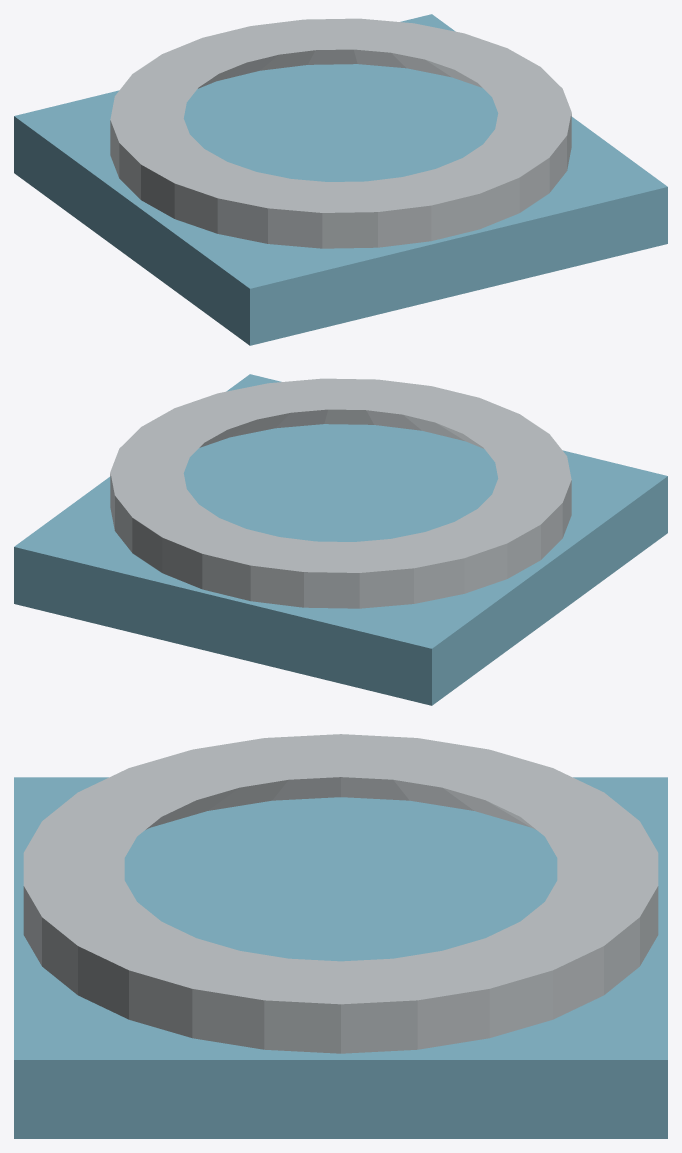
The model's file is 39_L77_TransparentOpticalEndpointViewport.glb.
The picture shows the model from 3 angles, top to bottom: view 1: azimuth 30°, elevation 25°; view 2: azimuth 150°, elevation 25°; view 3: azimuth 270°, elevation 25°; orthographic projection. The views are drawn at different scales.
Visible parts, largest first — view 1: TransparentOpticalEndpointViewport_Node_0000, TransparentOpticalEndpointViewport_Node_0001; view 2: TransparentOpticalEndpointViewport_Node_0000, TransparentOpticalEndpointViewport_Node_0001; view 3: TransparentOpticalEndpointViewport_Node_0000, TransparentOpticalEndpointViewport_Node_0001.
Boxes of the visible parts, <box> form: TransparentOpticalEndpointViewport_Node_0000: <box>14,14,667,345</box>; TransparentOpticalEndpointViewport_Node_0001: <box>110,18,571,248</box>; TransparentOpticalEndpointViewport_Node_0000: <box>14,374,667,705</box>; TransparentOpticalEndpointViewport_Node_0001: <box>110,378,571,608</box>; TransparentOpticalEndpointViewport_Node_0000: <box>14,777,667,1138</box>; TransparentOpticalEndpointViewport_Node_0001: <box>23,734,658,1053</box>.
Size of the model in its own units: 0.46 by 0.0975 by 0.45.
